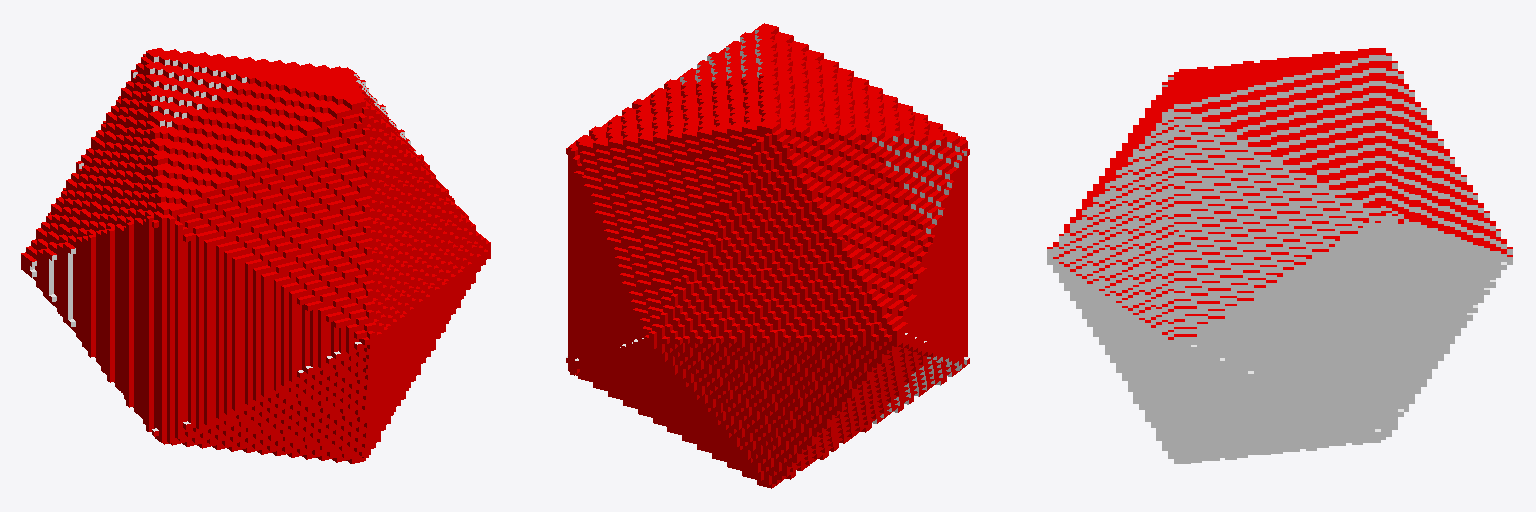
The model's file is icosa20_polyfront_inter.obj.
3 views of the same model, side by side, from view 1: azimuth 30°, elevation 25°; view 2: azimuth 150°, elevation 25°; view 3: azimuth 270°, elevation 25° (orthographic).
Bounding box in the file's own units: 73 × 69 × 81.